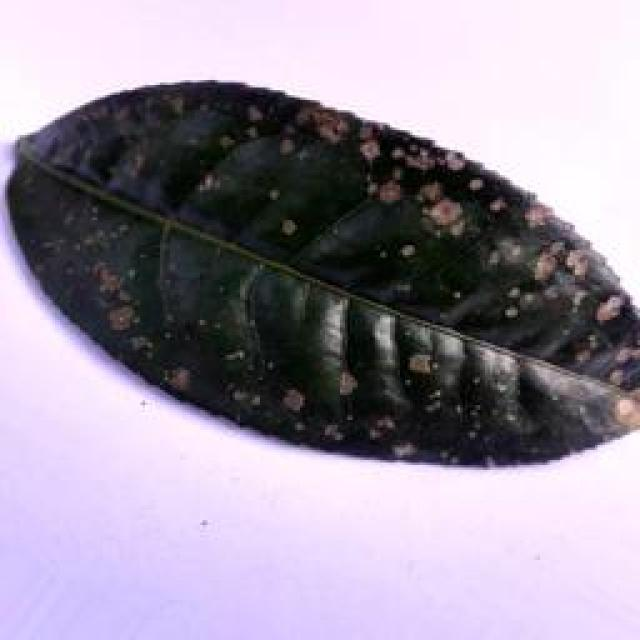Algal Leaf Spot: (0, 74, 634, 478)
